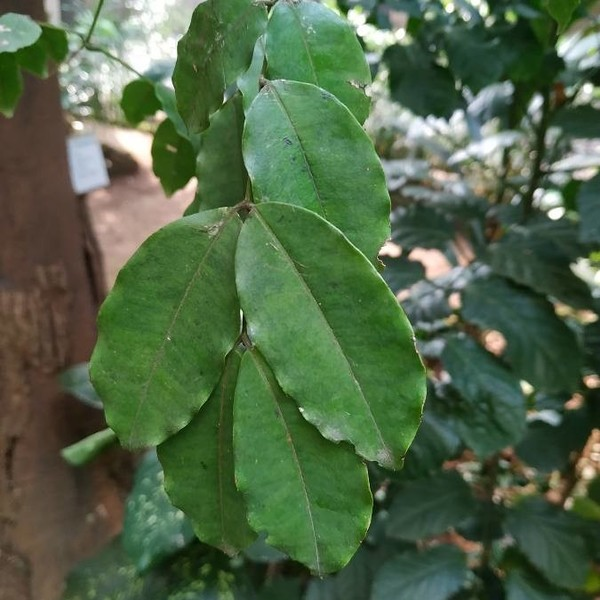obstacle: (118, 13, 444, 556)
